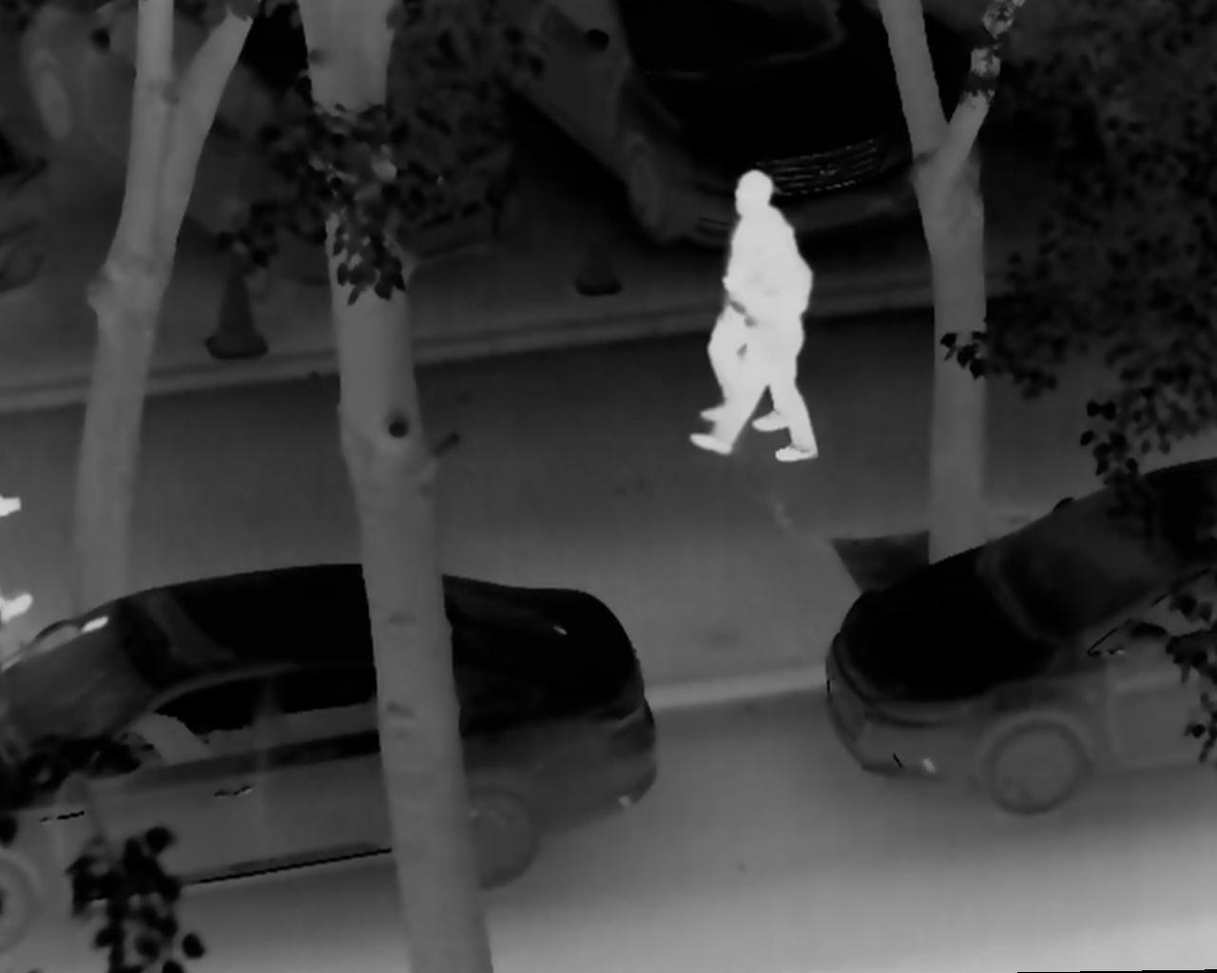person: (687, 211, 820, 469), (684, 167, 806, 435)
